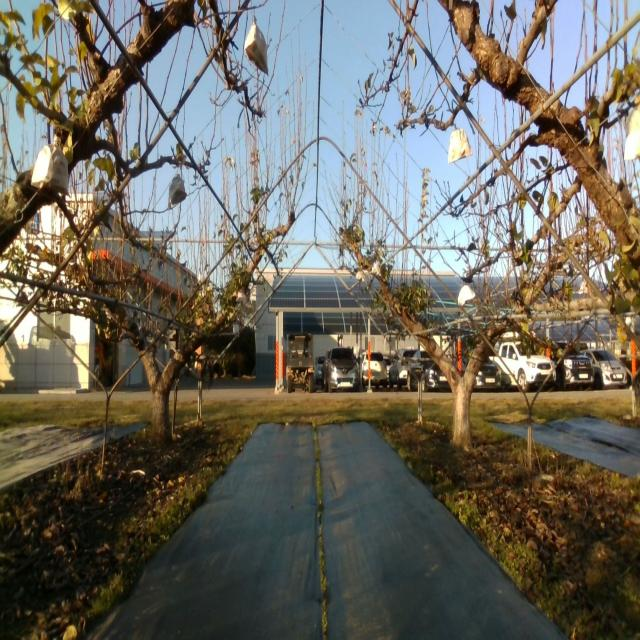pearbags: (30, 142, 69, 194), (243, 14, 269, 76), (448, 120, 473, 163), (168, 173, 187, 208), (457, 281, 476, 308)
